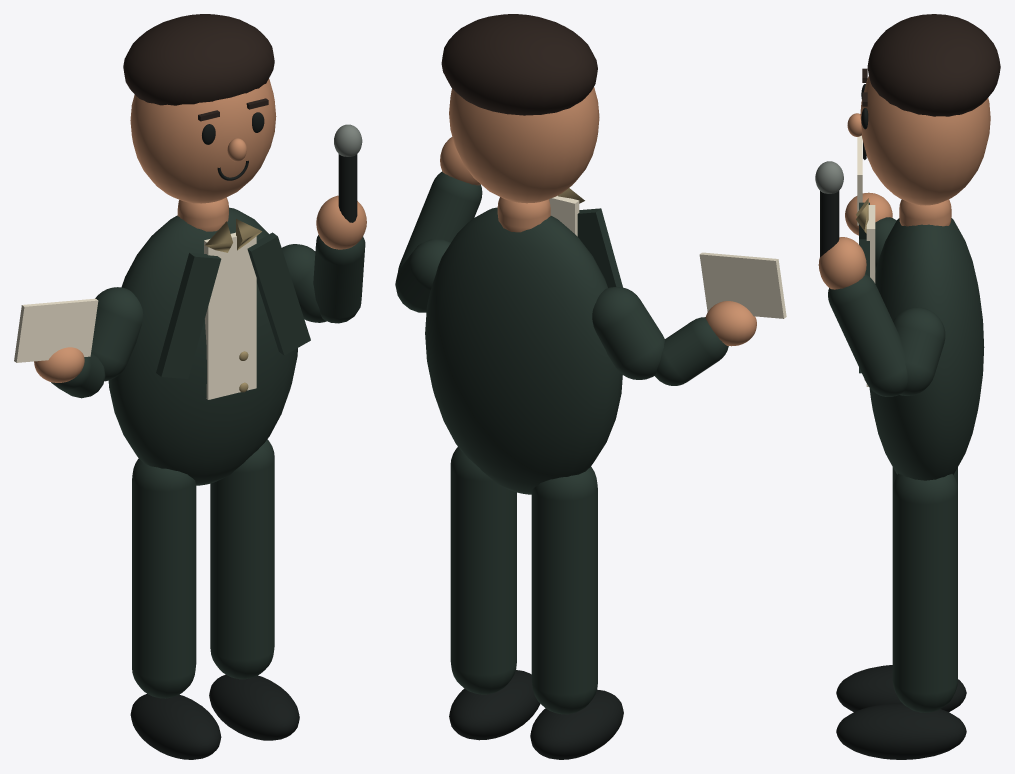
The model's file is mc-host-v1.glb.
3 renders of one model, left to right at view 1: azimuth 30°, elevation 25°; view 2: azimuth 150°, elevation 25°; view 3: azimuth 270°, elevation 25°, orthographic. The views are drawn at different scales.
Visible parts, largest first — view 1: Trouser leg (×2), Jacket, Cartoon head, Stylized hair, Dress shoe (×2), Suit lapel (×2), Shirt front, Cue card, Microphone forearm, Cue card arm, Microphone arm, Microphone hand (+5 smaller); view 2: Jacket, Trouser leg (×2), Stylized hair, Cartoon head, Dress shoe (×2), Cue card arm, Cue card, Microphone forearm, Cue card forearm, Microphone arm, Suit lapel, Cue card hand (+3 smaller); view 3: Jacket, Trouser leg, Stylized hair, Cartoon head, Dress shoe (×2), Microphone forearm, Microphone arm, Microphone hand, Neck, Handheld microphone, Cue card hand, Handheld grille (+3 smaller).
Part boxes in pixels (x1,y1,x2,y2): Trouser leg (×2): (132, 439, 274, 698); Jacket: (108, 207, 297, 485); Cartoon head: (130, 79, 276, 203); Stylized hair: (123, 14, 274, 105); Dress shoe (×2): (130, 674, 299, 759); Suit lapel (×2): (156, 232, 310, 378); Shirt front: (204, 232, 256, 399); Cue card: (14, 298, 98, 362); Microphone forearm: (313, 235, 365, 323); Cue card arm: (91, 287, 143, 381); Microphone arm: (281, 244, 326, 322); Microphone hand: (316, 195, 366, 249); Jacket: (425, 207, 622, 494); Trouser leg (×2): (450, 447, 597, 714); Stylized hair: (441, 14, 597, 115); Cartoon head: (449, 87, 599, 203); Dress shoe (×2): (449, 670, 623, 759); Cue card arm: (592, 287, 664, 379); Cue card: (699, 252, 786, 318); Microphone forearm: (398, 171, 482, 271); Cue card forearm: (654, 317, 728, 385); Microphone arm: (395, 239, 450, 312); Suit lapel: (577, 208, 622, 287); Cue card hand: (705, 301, 756, 346); Jacket: (869, 218, 984, 480); Trouser leg: (892, 473, 957, 712); Stylized hair: (867, 14, 1000, 116); Cartoon head: (860, 76, 990, 205); Dress shoe (×2): (836, 665, 966, 759); Microphone forearm: (828, 273, 907, 396); Microphone arm: (893, 307, 945, 395); Microphone hand: (818, 237, 866, 289); Neck: (899, 199, 951, 226); Handheld microphone: (820, 191, 839, 257); Cue card hand: (845, 192, 892, 235); Handheld grille: (815, 161, 843, 193).
Size of the model in its own units: 0.9562 by 1.8 by 0.426.
